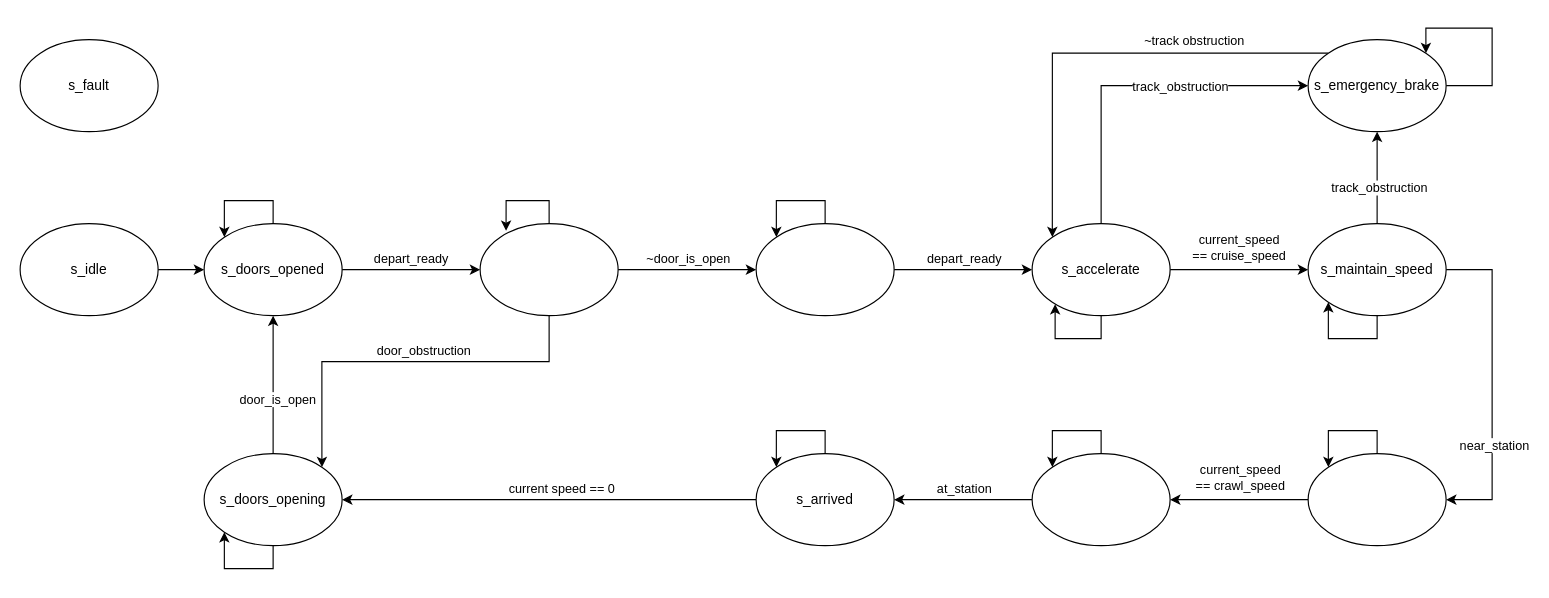
The diagram is 1549 pixels wide and 598 high, and some of its shapes have lost their labels. Here are the shapes that lost their labels. From the top down, the centre of each, then its label:
[548,269]: s_doors_closing
[824,269]: s_doors_closed
[1100,499]: s_crawl
[1376,499]: s_brake
